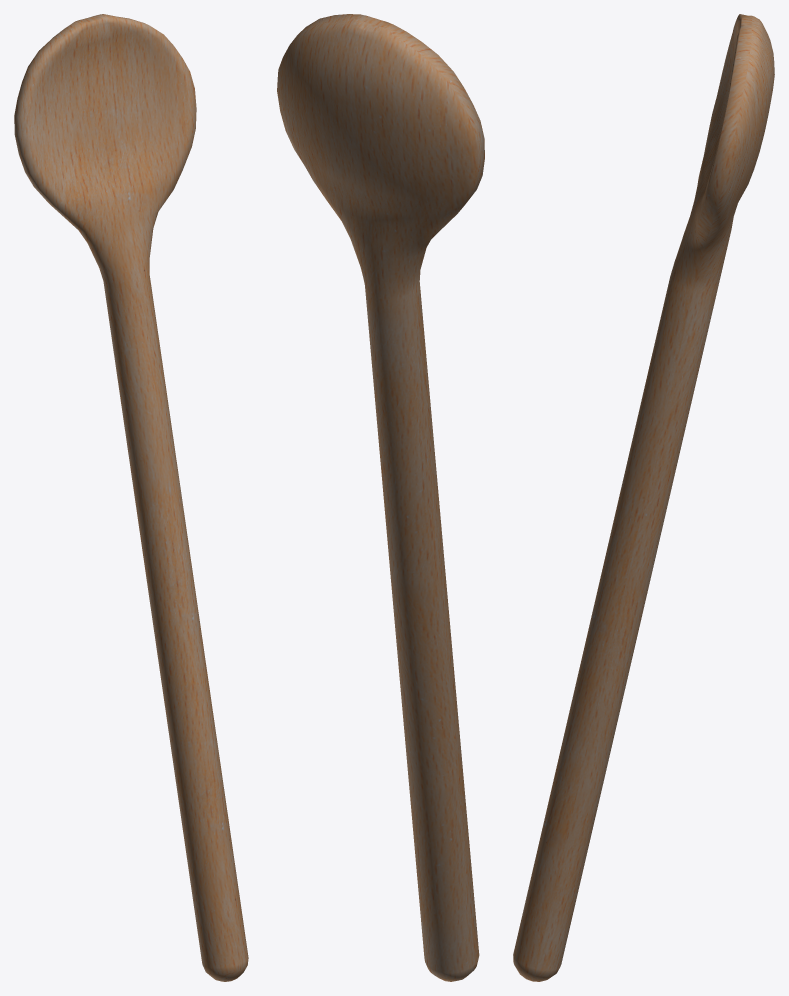
The model's file is spoon.glb.
3 views of the same model, side by side, from view 1: azimuth 30°, elevation 25°; view 2: azimuth 150°, elevation 25°; view 3: azimuth 270°, elevation 25° (orthographic). The views are drawn at different scales.
Visible parts, largest first — view 1: WoodenSpoon; view 2: WoodenSpoon; view 3: WoodenSpoon.
Boxes of the visible parts, x1,y1,x2,y2 form: WoodenSpoon: (14, 14, 248, 981); WoodenSpoon: (277, 14, 484, 981); WoodenSpoon: (513, 14, 774, 981).
Bounding box in the file's own units: 0.9708 × 4.81 × 1.21.
1 material, 1 textured.
